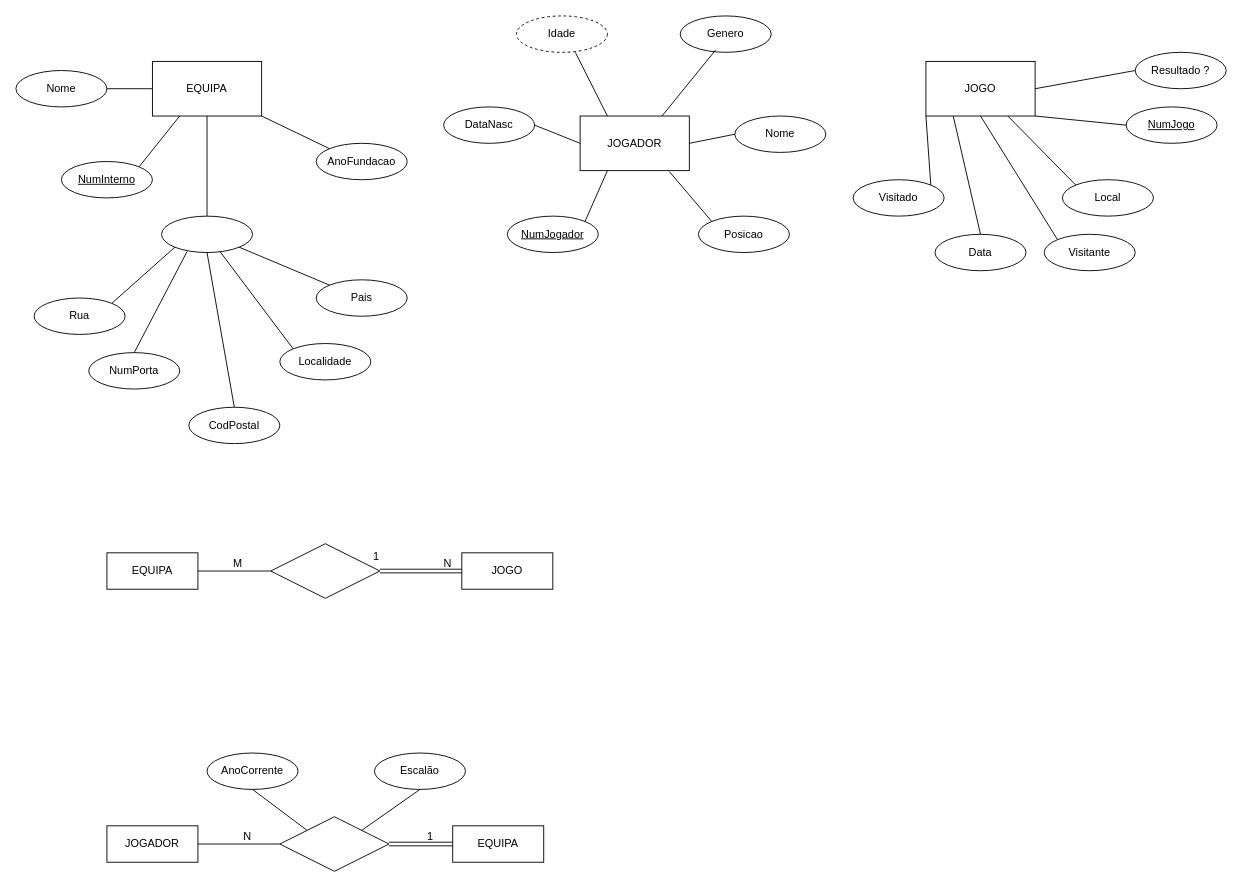
Image size: 1242x887. Some labels were removed from this diagram. The shapes that lost their labels are listed below. From the top down, each one's centre as x and y in pixels, then its label:
At point 207,234: "Morada".
At point 325,570: "JOGOU".
At point 334,843: "FILIADO".
